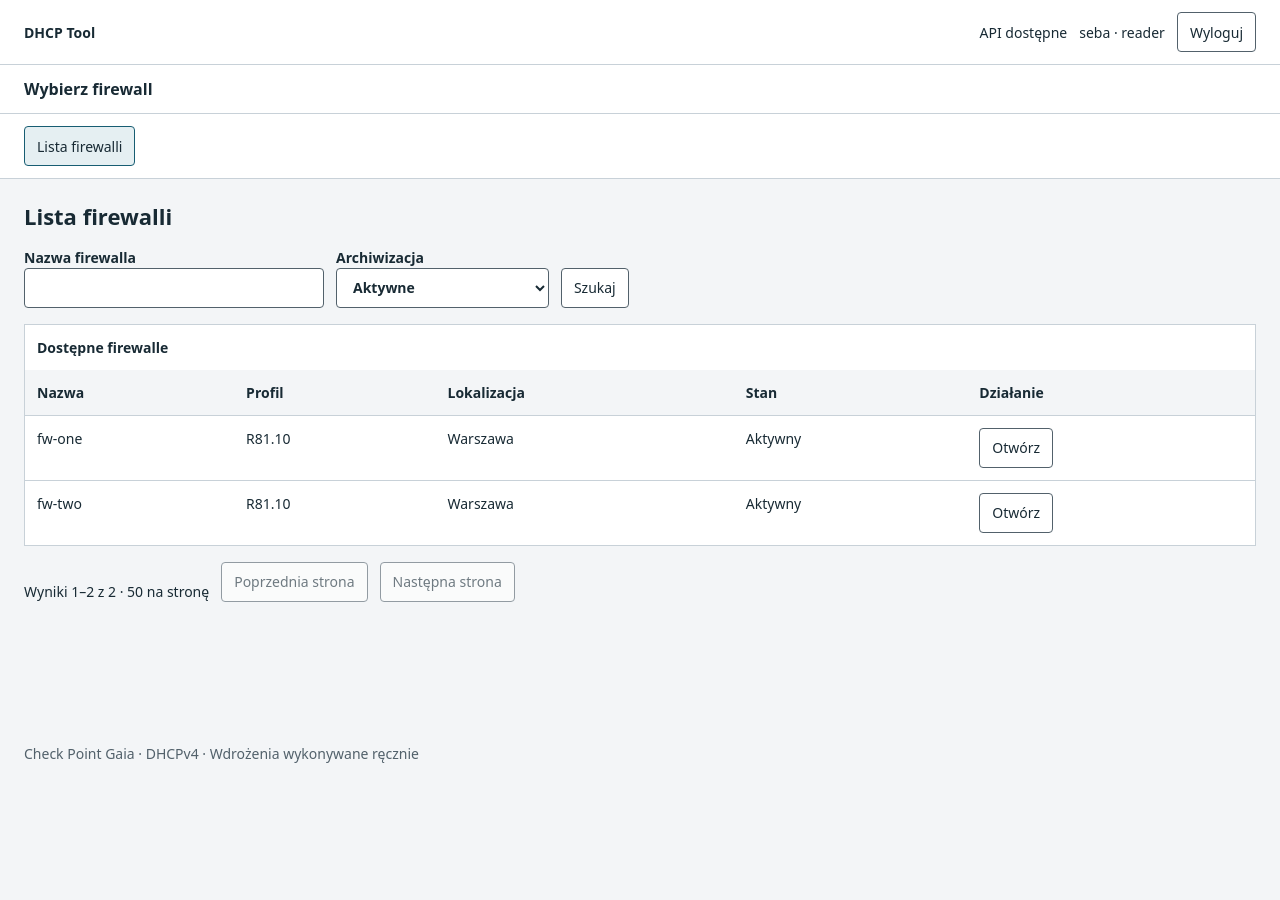
discards a late response after changing firewall
Click the button with aria-label "Otwórz fw-one".
click(1016, 448)  # box [979,428,1053,468]
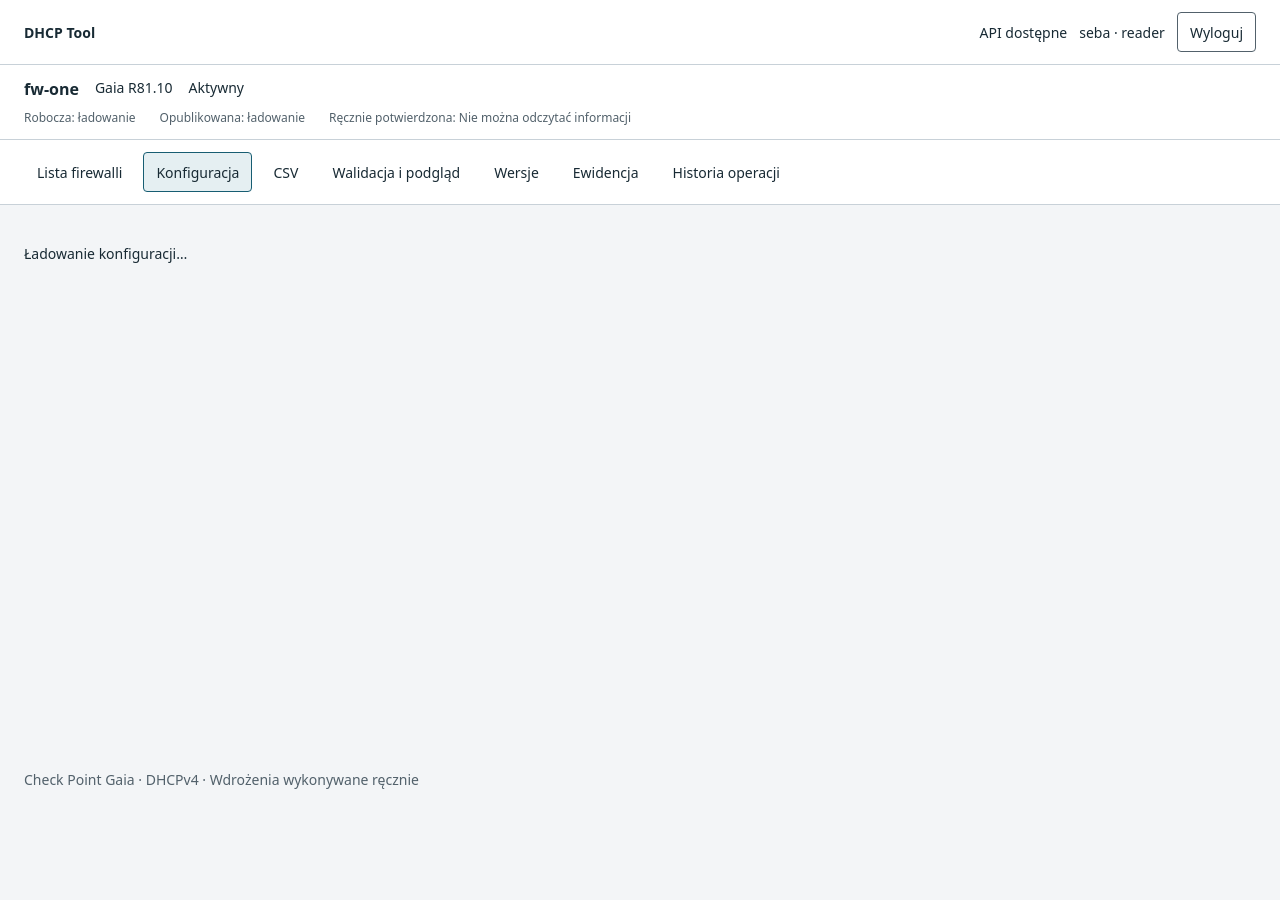
Click the button "Lista firewalli".
click(80, 172)  # box [24,152,136,192]
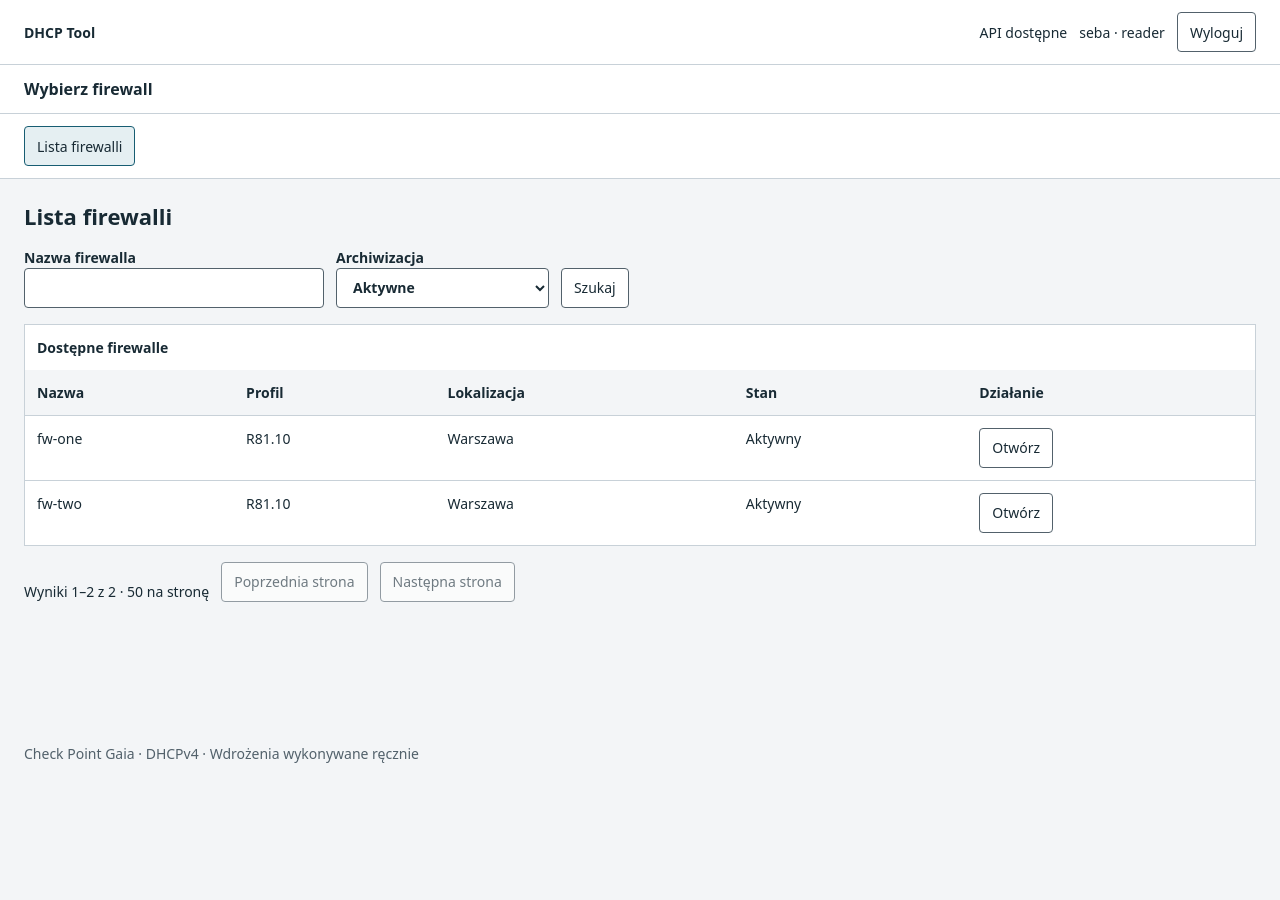
Click the button with aria-label "Otwórz fw-two".
click(1016, 512)  # box [979,492,1053,532]
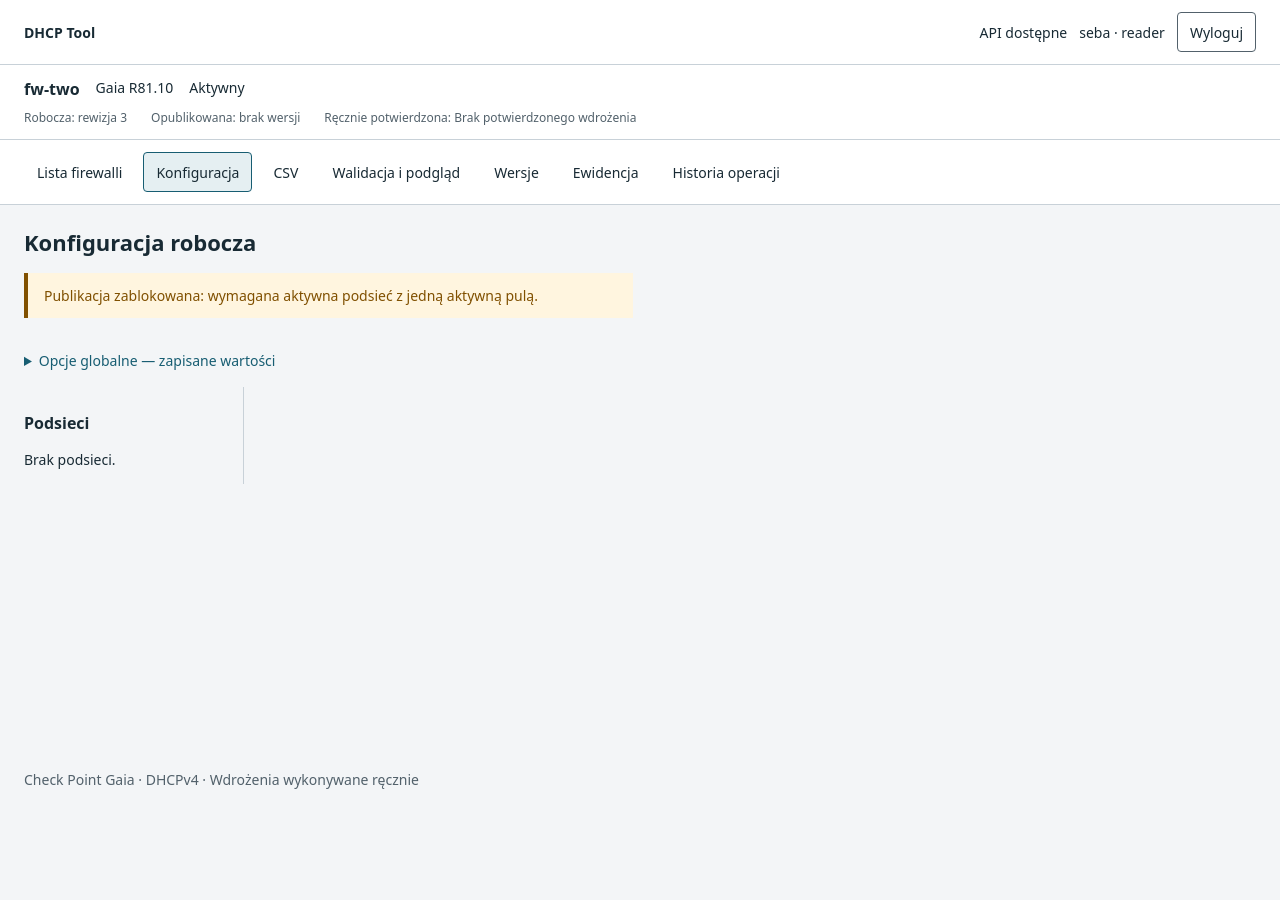
Now the text "Brak podsieci." is shown, box [24,450,116,468]
